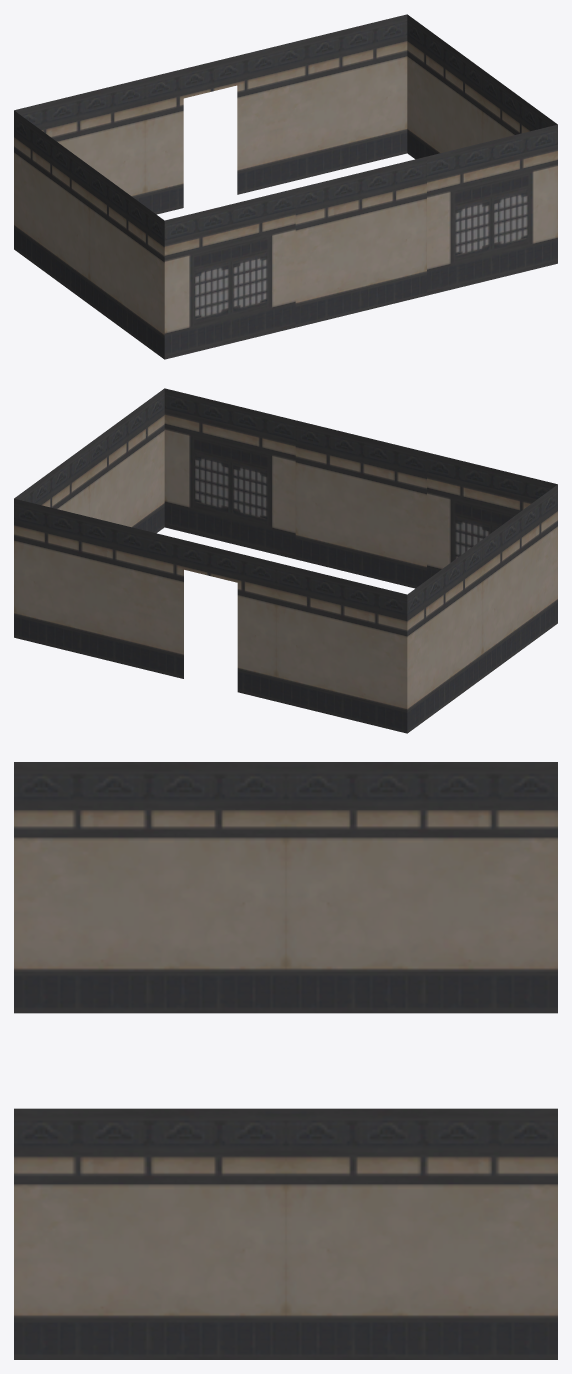
Rendered from Homeworld_Interior_Dq_Room_B_Filling_01_Vo.fbx.
3 renders of one model, top to bottom at view 1: azimuth 30°, elevation 25°; view 2: azimuth 150°, elevation 25°; view 3: azimuth 270°, elevation 25°, orthographic. The views are drawn at different scales.
Parts seen in each view (by area): view 1: Homeworld_Interior_Dq_Room_B_Filling_01_Vo; view 2: Homeworld_Interior_Dq_Room_B_Filling_01_Vo; view 3: Homeworld_Interior_Dq_Room_B_Filling_01_Vo.
Part boxes in pixels (x1,y1,x2,y2): Homeworld_Interior_Dq_Room_B_Filling_01_Vo: [14, 14, 557, 359]; Homeworld_Interior_Dq_Room_B_Filling_01_Vo: [14, 388, 557, 733]; Homeworld_Interior_Dq_Room_B_Filling_01_Vo: [14, 762, 557, 1359].
Size of the model in its own units: 14.74 by 4.98 by 9.78.
